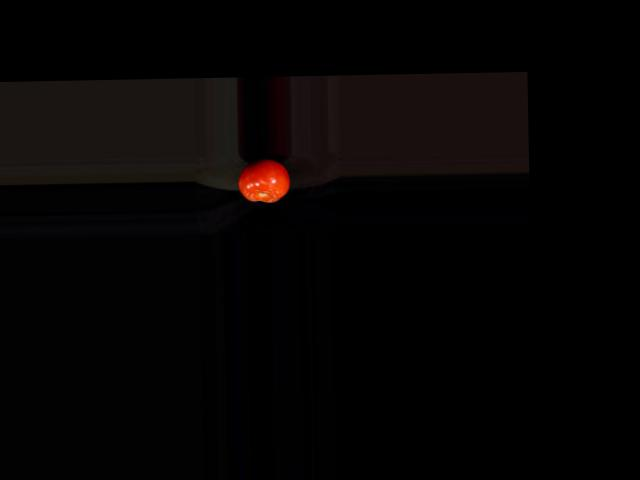tomato: (237, 158, 291, 203)
